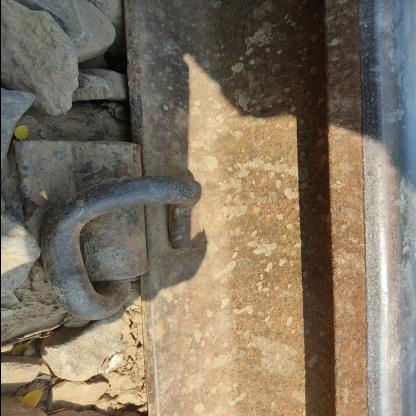Non Defective 1: (1, 97, 224, 333)
